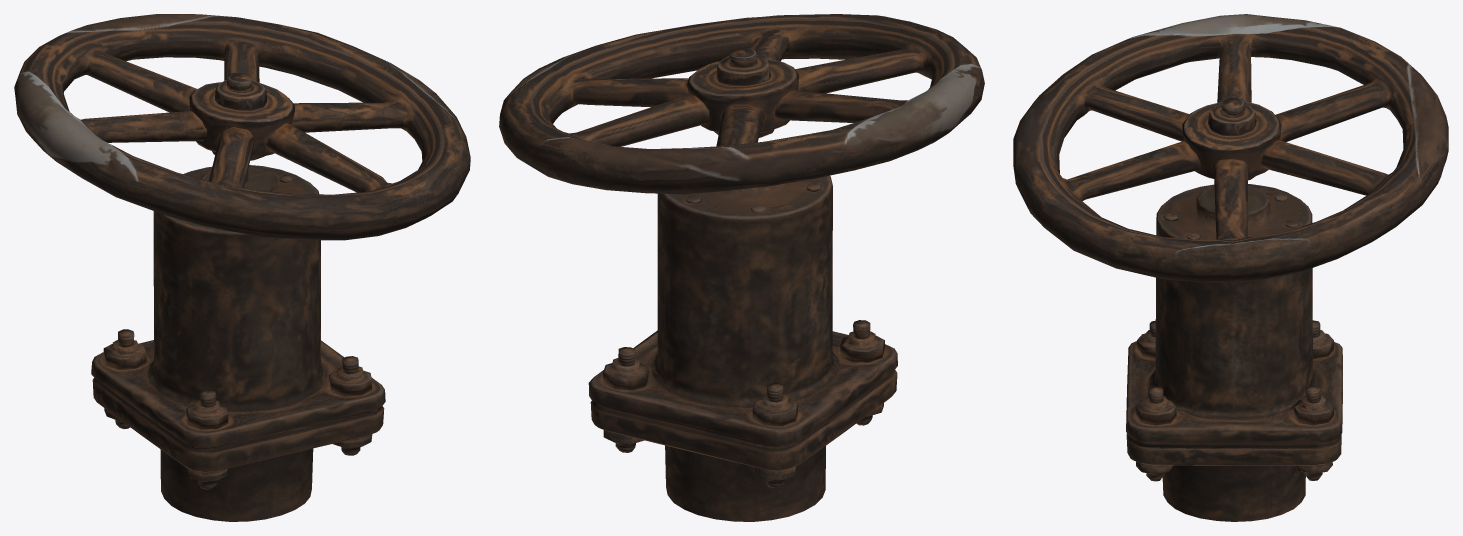
3 views of the same model, side by side, from view 1: azimuth 30°, elevation 25°; view 2: azimuth 150°, elevation 25°; view 3: azimuth 270°, elevation 25° (orthographic). The views are drawn at different scales.
Size of the model in its own units: 0.9985 by 1 by 1.
Materials: 1 (1 with a texture image).
